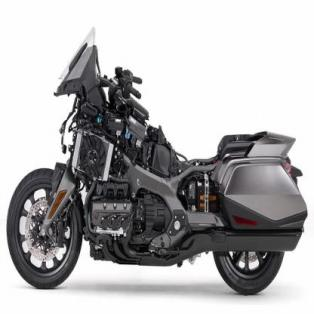Motocicleta: (4, 22, 309, 298)
